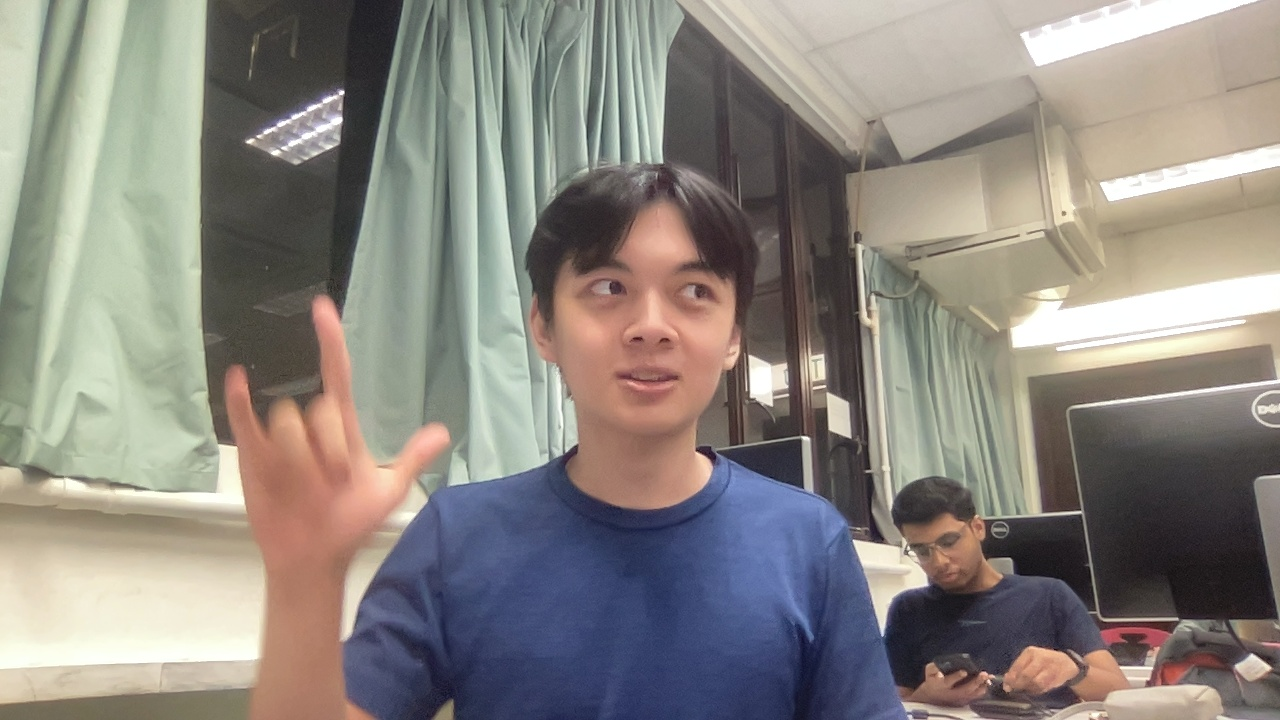iloveyou: (162, 290, 512, 576)
